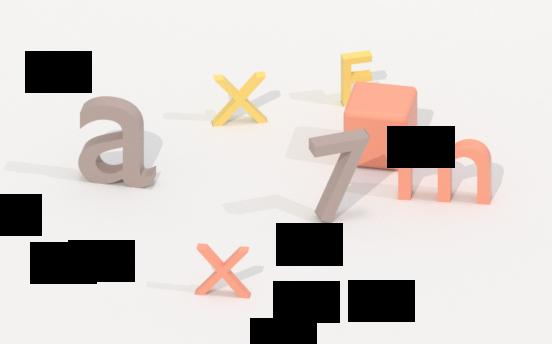F: (339, 47, 376, 108)
a: (75, 93, 160, 191)
cau: (306, 129, 373, 226)
hop: (340, 73, 420, 173)
m: (397, 130, 492, 212)
x: (194, 239, 256, 303), (211, 69, 271, 134)
